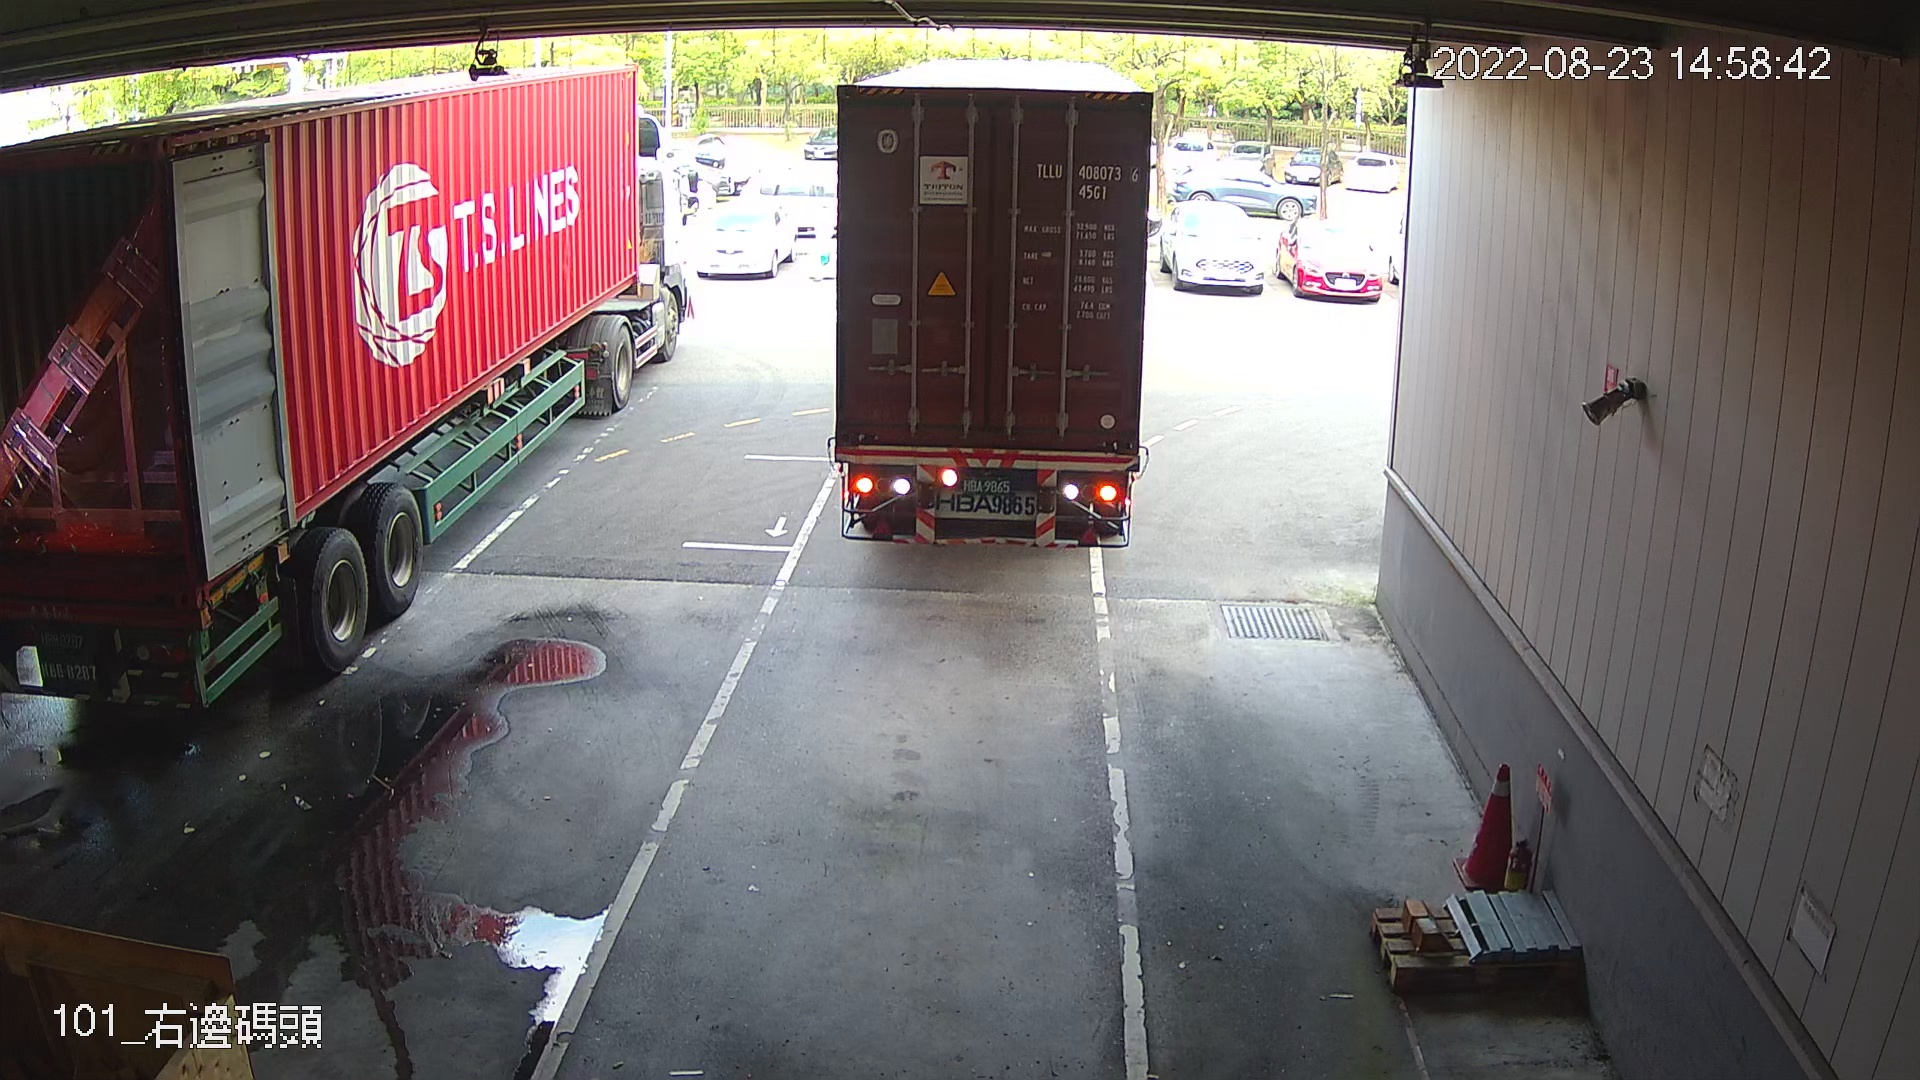container: (1031, 152, 1145, 204)
